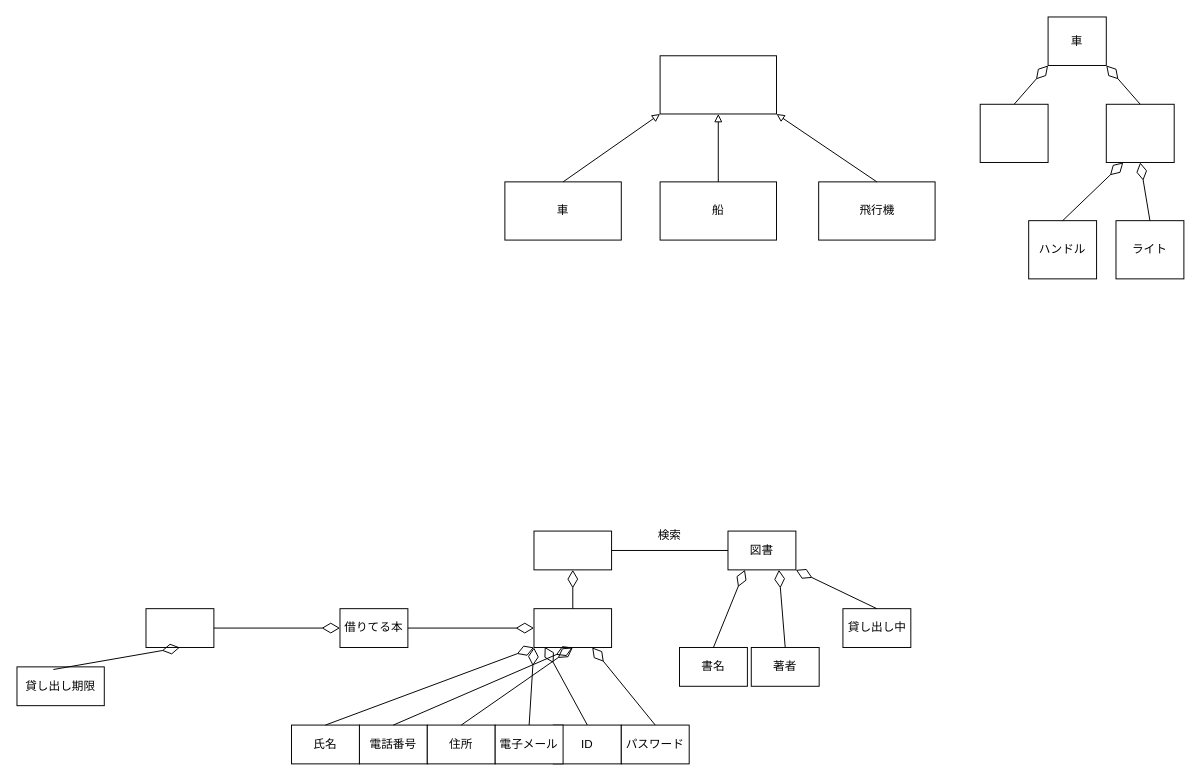
Image size: 1201x781. Some labels were removed from this diagram. Each missing label, with the centre of its shape:
"エンジン" goes at point (1013, 132).
"ボディ" goes at point (1139, 132).
"乗り物" goes at point (717, 84).
"利用者" goes at point (572, 550).
"図書館カード" goes at point (572, 627).
"貸出予約" goes at point (179, 627).
